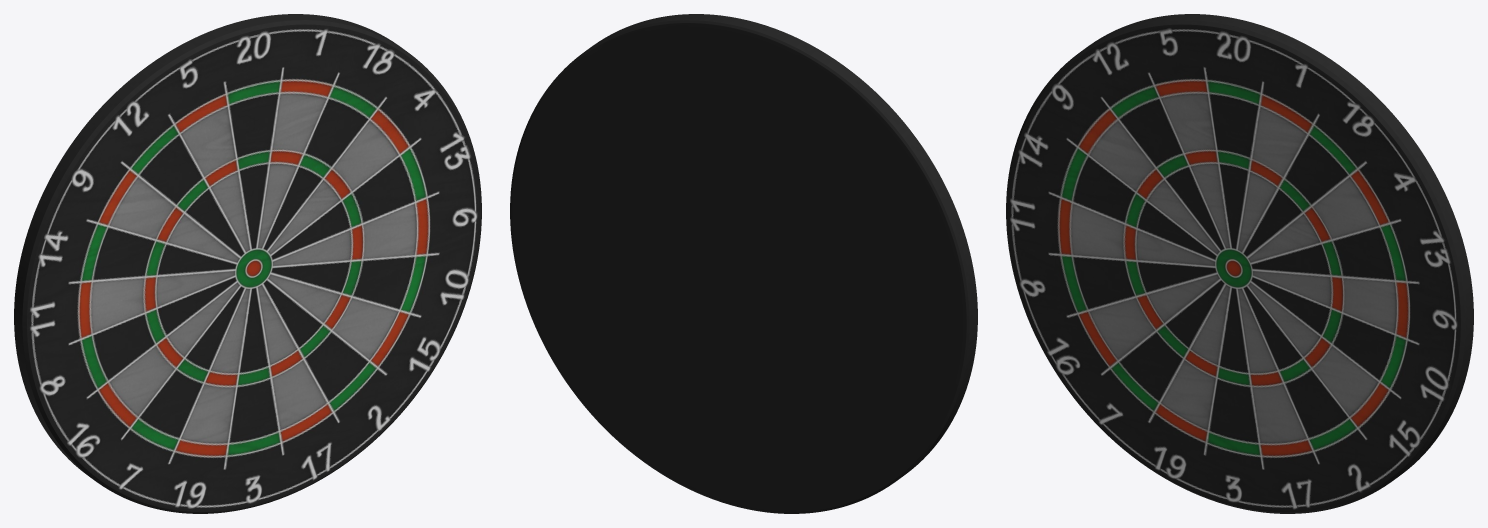
Rendered from Target.fbx.
3 renders of one model, left to right at view 1: azimuth 30°, elevation 25°; view 2: azimuth 150°, elevation 25°; view 3: azimuth 330°, elevation 25°, orthographic.
Visible parts, largest first — view 1: 11721_darboard_V4_L3; view 2: 11721_darboard_V4_L3; view 3: 11721_darboard_V4_L3.
Boxes of the visible parts, <box> form: 11721_darboard_V4_L3: <box>14,14,481,513</box>; 11721_darboard_V4_L3: <box>510,14,977,513</box>; 11721_darboard_V4_L3: <box>1006,14,1473,513</box>.
Size of the model in its own units: 5350 by 5350 by 221.
